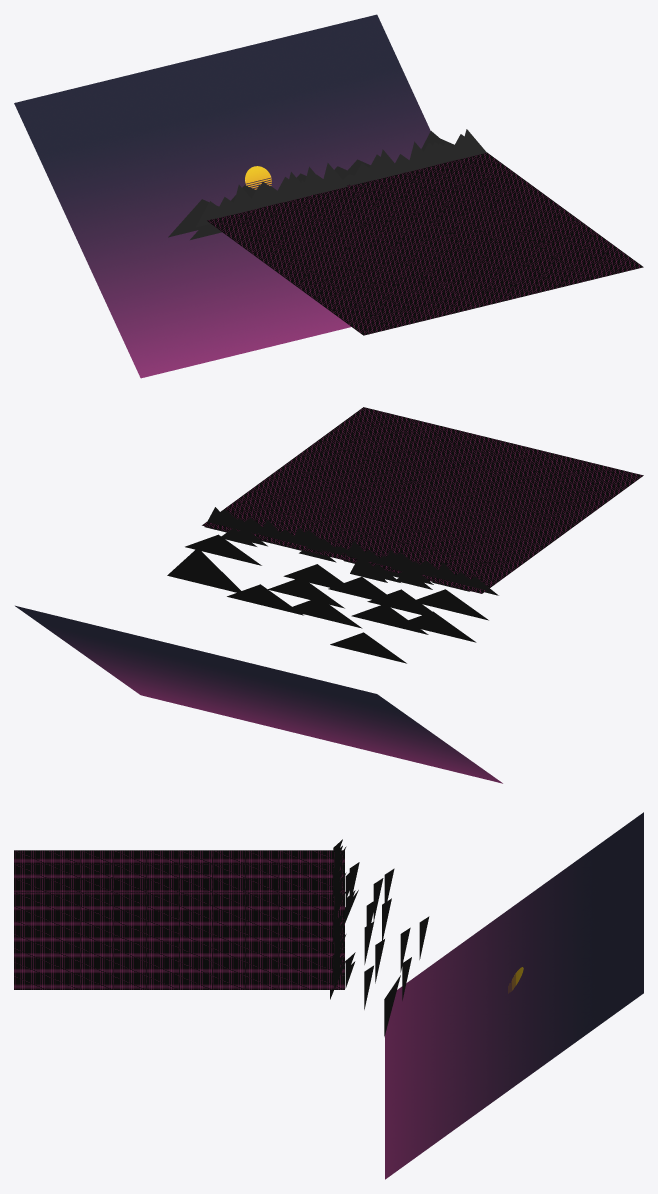
File: World.fbx
3 renders of one model, top to bottom at view 1: azimuth 30°, elevation 25°; view 2: azimuth 150°, elevation 25°; view 3: azimuth 270°, elevation 25°, orthographic. The views are drawn at different scales.
Parts seen in each view (by area): view 1: pPlane2, pPlane1, pPyramid36; view 2: pPlane1, pPlane2, pPyramid33, pPyramid29, pPyramid36, pPyramid48, pPyramid38, pPyramid10, pPyramid34, pPyramid39, pPyramid44, pPyramid40 (+2 smaller); view 3: pPlane2, pPlane1.
Part boxes in pixels (bbox=[...]): pPlane2: bbox=[14, 14, 430, 378]; pPlane1: bbox=[207, 152, 643, 335]; pPyramid36: bbox=[168, 199, 218, 237]; pPlane1: bbox=[202, 407, 643, 593]; pPlane2: bbox=[15, 605, 502, 783]; pPyramid33: bbox=[167, 548, 241, 592]; pPyramid29: bbox=[227, 584, 303, 615]; pPyramid36: bbox=[399, 611, 476, 642]; pPyramid48: bbox=[330, 632, 406, 663]; pPyramid38: bbox=[185, 534, 261, 565]; pPyramid10: bbox=[416, 589, 488, 620]; pPyramid34: bbox=[292, 597, 362, 628]; pPyramid39: bbox=[268, 577, 344, 608]; pPyramid44: bbox=[351, 604, 428, 634]; pPyramid40: bbox=[367, 589, 431, 615]; pPlane2: bbox=[385, 812, 643, 1179]; pPlane1: bbox=[14, 850, 344, 989].
Size of the model in its own units: 617 by 306 by 907.
4 materials, 4 textured.
